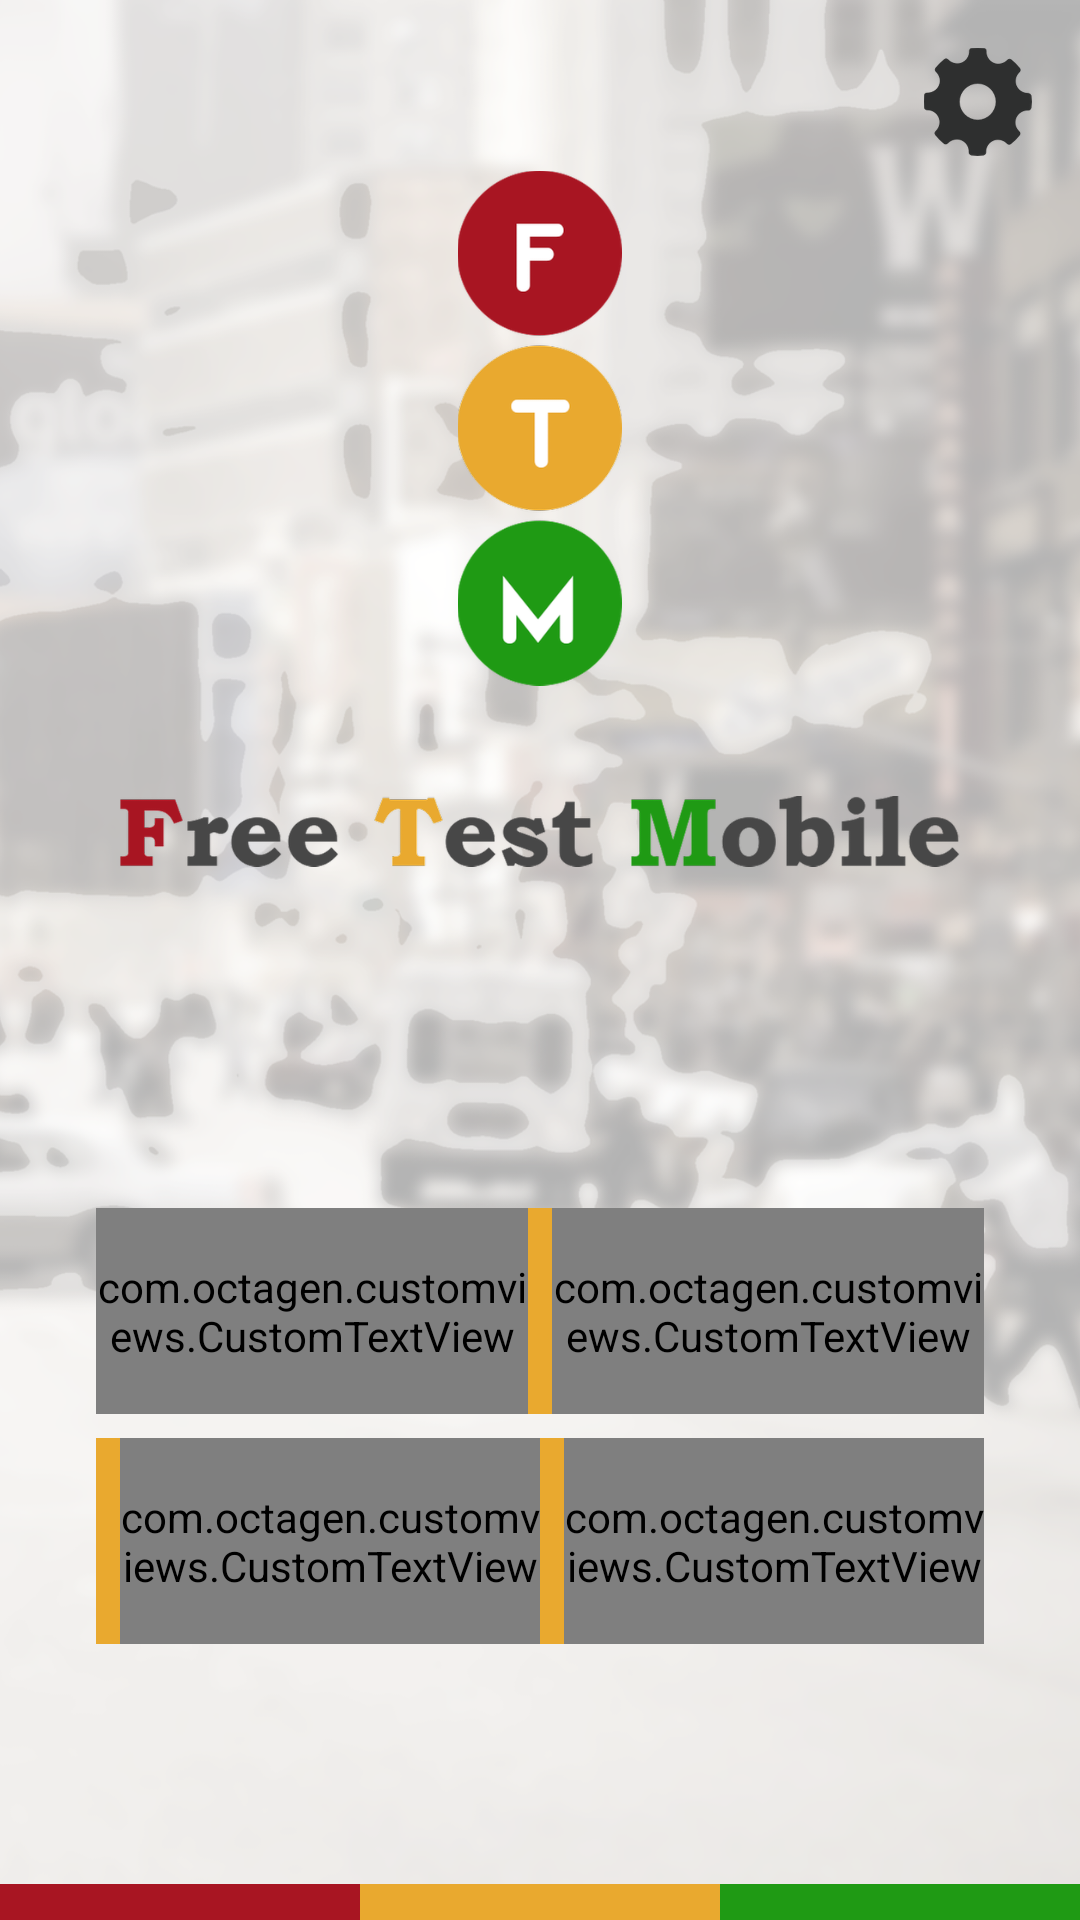

Screen size 1080*1920. Icon name, then its box in pixels as (x1, y1, x2, y2):
settings: (924, 48, 1032, 156)
